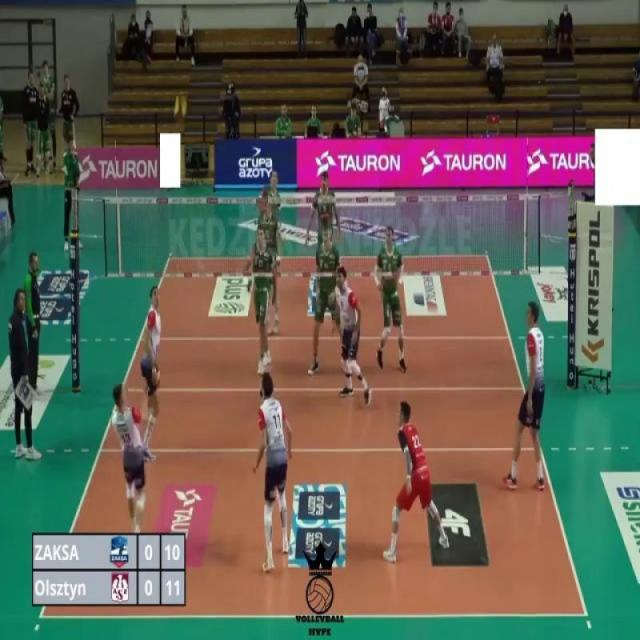volleyball: (173, 92, 188, 124)
